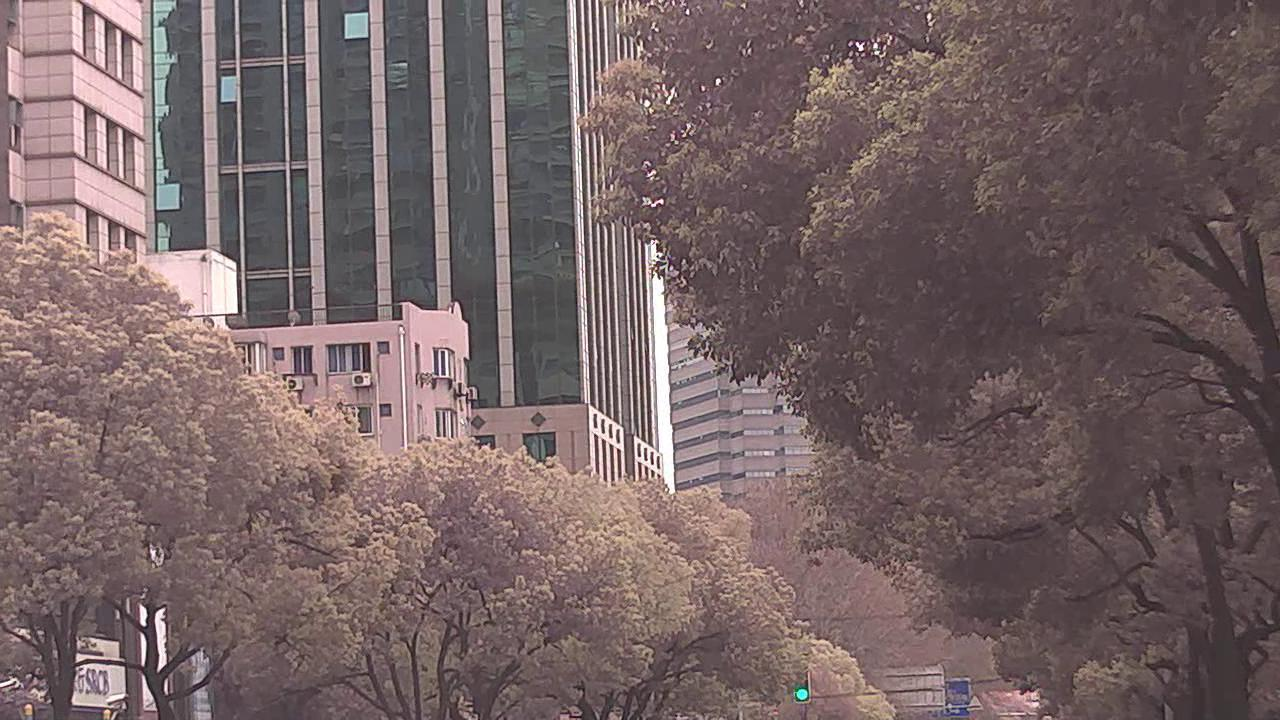traffic_light: (792, 665, 810, 703)
